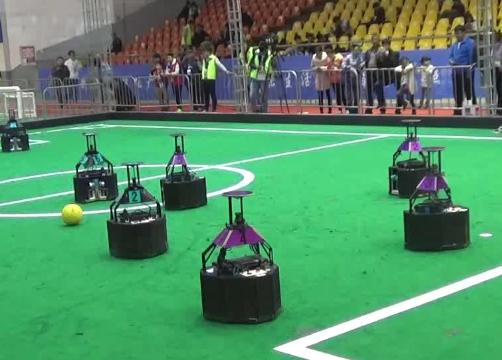robot: (196, 188, 290, 326), (401, 145, 473, 253), (101, 161, 172, 261), (382, 115, 444, 202), (154, 132, 211, 210), (65, 128, 122, 204)
